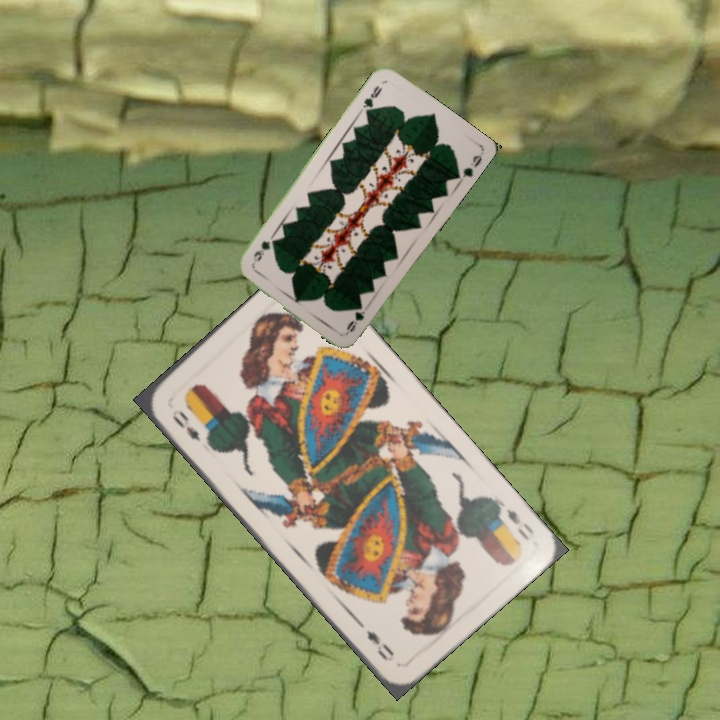EO: (167, 405, 204, 444), (501, 505, 537, 543)
G9: (342, 299, 367, 336), (359, 81, 385, 116)
